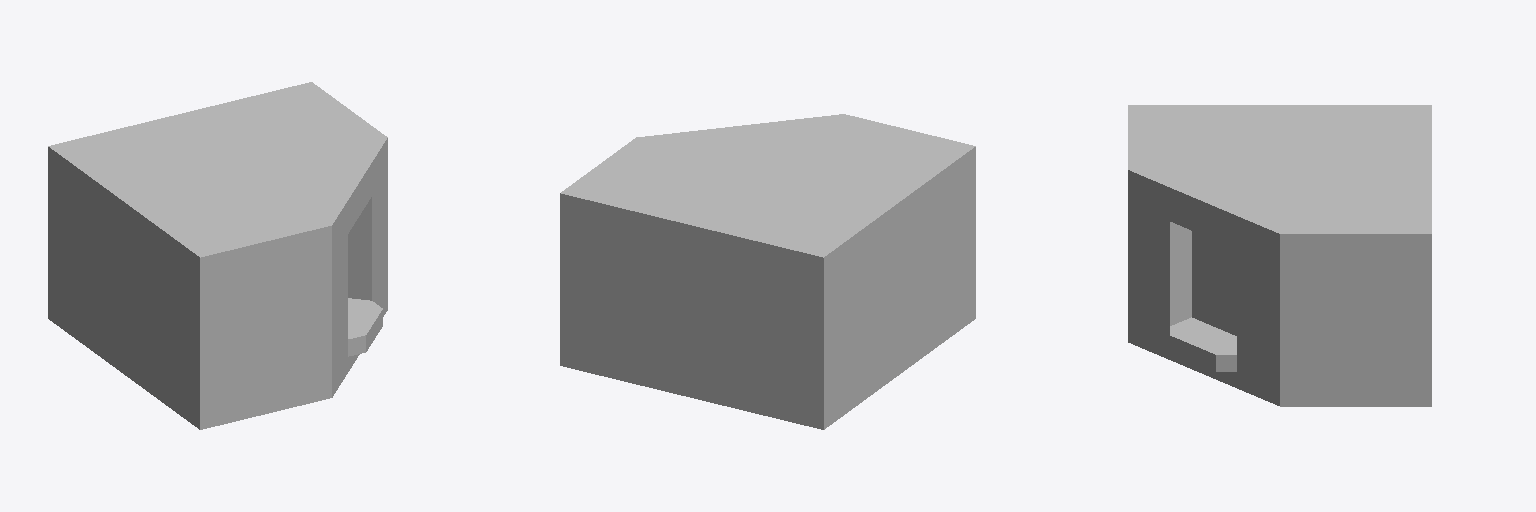
File: building-corner-window-sill.obj
The picture shows the model from 3 angles: view 1: azimuth 30°, elevation 25°; view 2: azimuth 150°, elevation 25°; view 3: azimuth 270°, elevation 25°; orthographic projection.
Parts seen in each view (by area): view 1: building-corner-window-sill; view 2: building-corner-window-sill; view 3: building-corner-window-sill.
Boxes of the visible parts, <box> form: building-corner-window-sill: <box>48,82,387,429</box>; building-corner-window-sill: <box>560,114,975,429</box>; building-corner-window-sill: <box>1128,105,1431,406</box>.
Bounding box in the file's own units: 1 × 0.625 × 1.